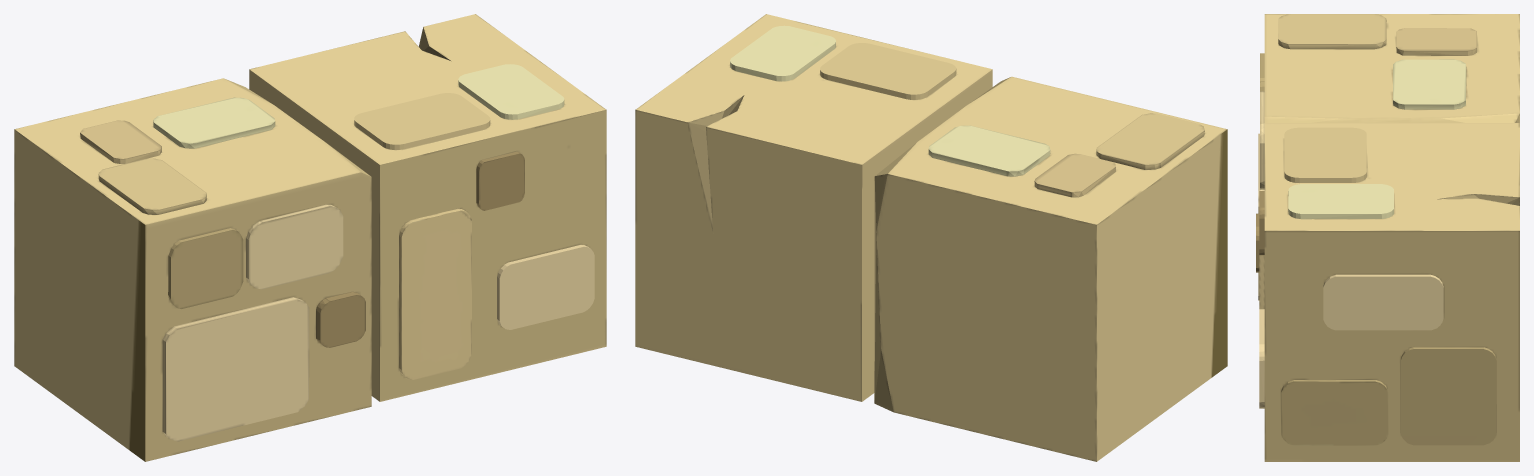
The model's file is Stone1set.fbx.
The picture shows the model from 3 angles, left to right: view 1: azimuth 30°, elevation 25°; view 2: azimuth 150°, elevation 25°; view 3: azimuth 270°, elevation 25°; orthographic projection. The views are drawn at different scales.
Parts seen in each view (by area): view 1: Stone 2, Stone 1; view 2: Stone 2, Stone 1; view 3: Stone 1, Stone 2.
Boxes of the visible parts, x1,y1,x2,y2 form: Stone 2: (14, 78, 371, 461); Stone 1: (249, 14, 606, 401); Stone 2: (874, 76, 1227, 461); Stone 1: (635, 14, 992, 401); Stone 1: (1259, 123, 1519, 461); Stone 2: (1256, 14, 1519, 300).
Size of the model in its own units: 69.09 by 34.77 by 34.77.
